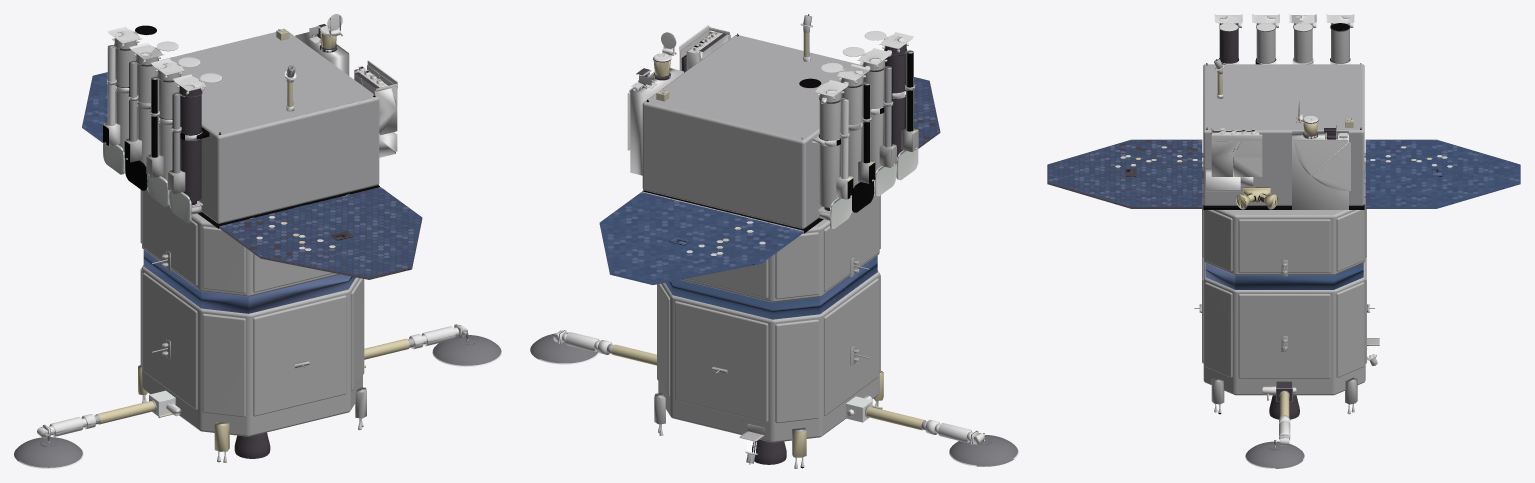
File: sdo.glb
3 renders of one model, left to right at view 1: azimuth 30°, elevation 25°; view 2: azimuth 150°, elevation 25°; view 3: azimuth 270°, elevation 25°, orthographic. The views are drawn at different scales.
Visible parts, largest first — view 1: Fake; view 2: Fake; view 3: Fake.
Part boxes in pixels (x1,y1,x2,y2): Fake: (14, 14, 501, 468); Fake: (530, 14, 1018, 468); Fake: (1047, 14, 1520, 468).
Size of the model in its own units: 37.02 by 30.75 by 37.03.
Materials: 2 (2 with a texture image).
